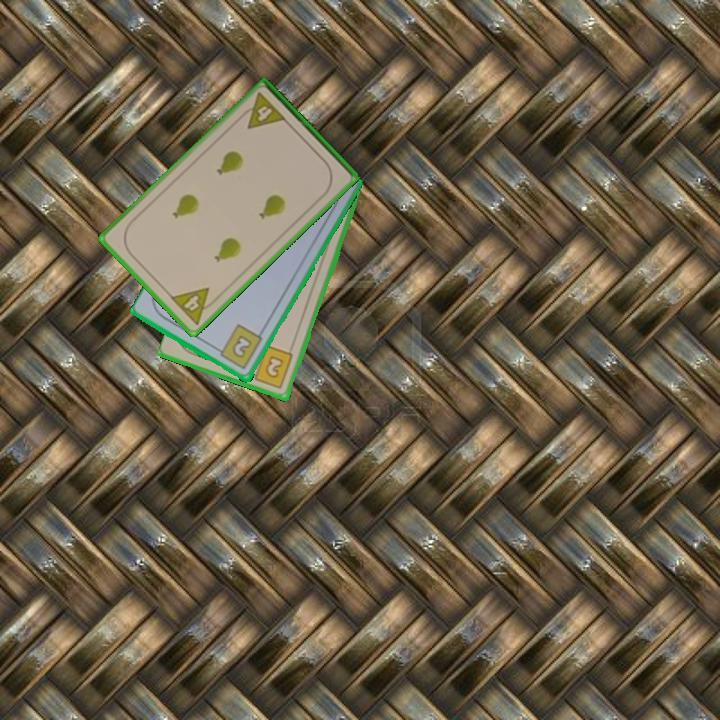2b: (212, 321, 265, 373), (246, 343, 296, 392)
4p: (167, 284, 221, 328), (236, 89, 289, 132)
